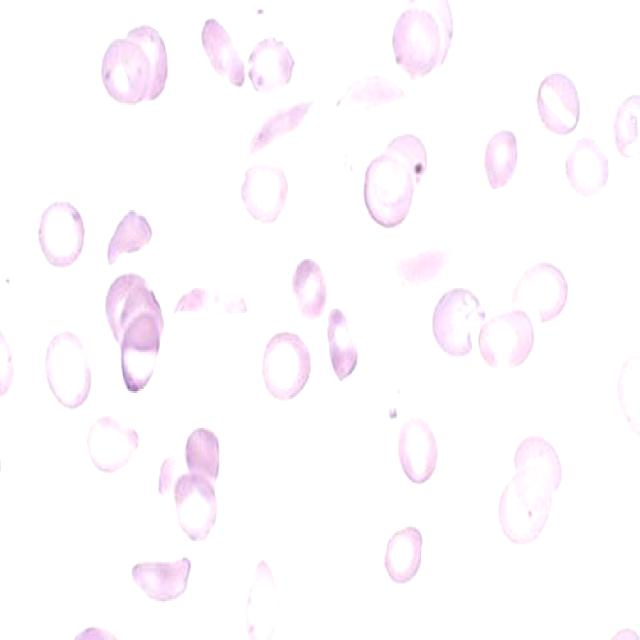RBC: (33, 319, 100, 420), (498, 251, 577, 335), (507, 416, 571, 504), (392, 403, 449, 488), (553, 128, 612, 204), (609, 92, 640, 160)
sickle cell: (228, 88, 322, 169), (383, 224, 475, 302), (166, 264, 251, 328)
